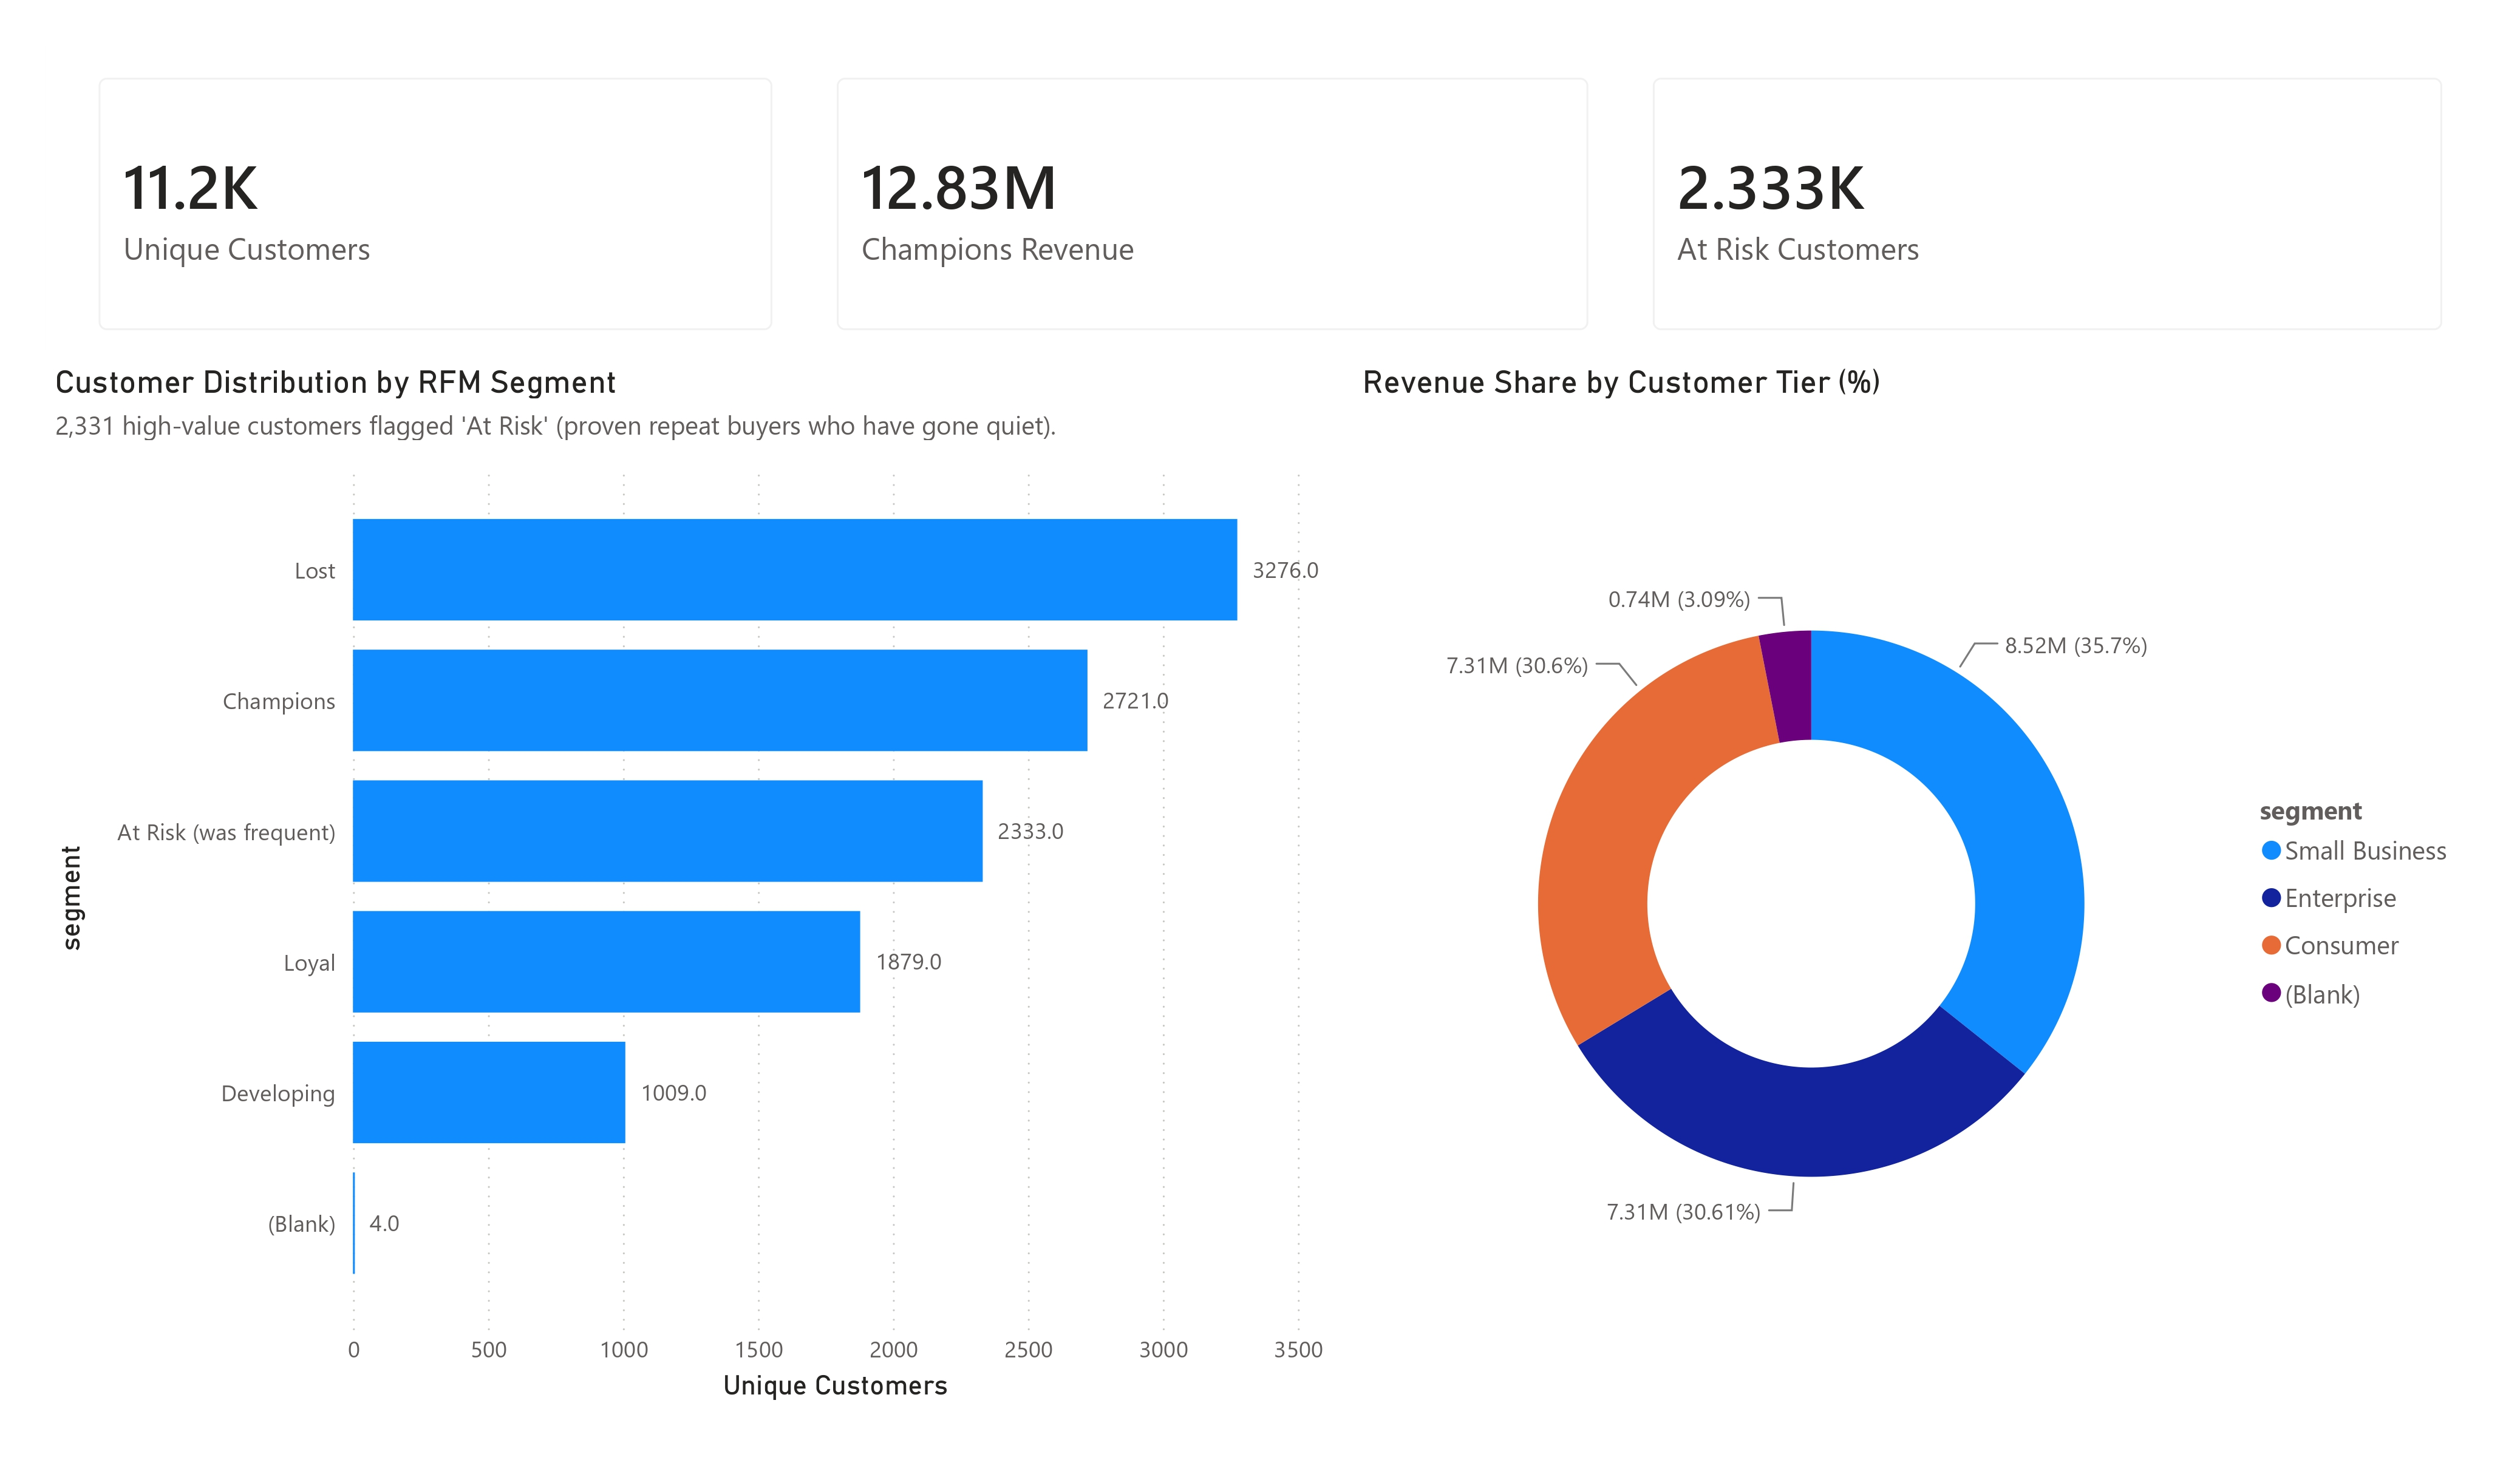

The page's visual inventory and layout, read from the dashboard file:
{"tool":"powerbi","page":{"name":"Customer Segmentation","canvas":[1280,720],"ordinal":2},"visuals":[{"type":"cardVisual","fields":{"Data":["orders_clean.Unique Customers"]},"box":[10.6,0,389.2,166.6],"z":0},{"type":"cardVisual","fields":{"Data":["orders_clean.Champions Revenue"]},"box":[399.8,0,430,166.6],"z":1},{"type":"cardVisual","fields":{"Data":["orders_clean.At Risk Customers"]},"box":[829.8,0,449.7,166.6],"z":2},{"type":"clusteredBarChart","title":"Customer Distribution by RFM Segment","fields":{"Category":["rfm_segments.segment"],"Y":["orders_clean.Unique Customers"]},"box":[0,166.6,689,552.7],"z":3},{"type":"donutChart","title":"Revenue Share by Customer Tier (%)","fields":{"Category":["customers_clean.segment"],"Y":["orders_clean.Total Revenue"]},"box":[689,166.6,590.5,552.7],"z":4}]}

Visuals, with their boxes on the page's 1280x720 design canvas (x1, y1, x2, y2). These are canvas units, not pixel positions in the 2520x1457 screenshot, which may show the page scaled, cropped or inside an application window:
cardVisual - orders_clean.Unique Customers: 11:0:400:167
cardVisual - orders_clean.Champions Revenue: 400:0:830:167
cardVisual - orders_clean.At Risk Customers: 830:0:1280:167
"Customer Distribution by RFM Segment" clusteredBarChart: 0:167:689:719
"Revenue Share by Customer Tier (%)" donutChart: 689:167:1280:719
